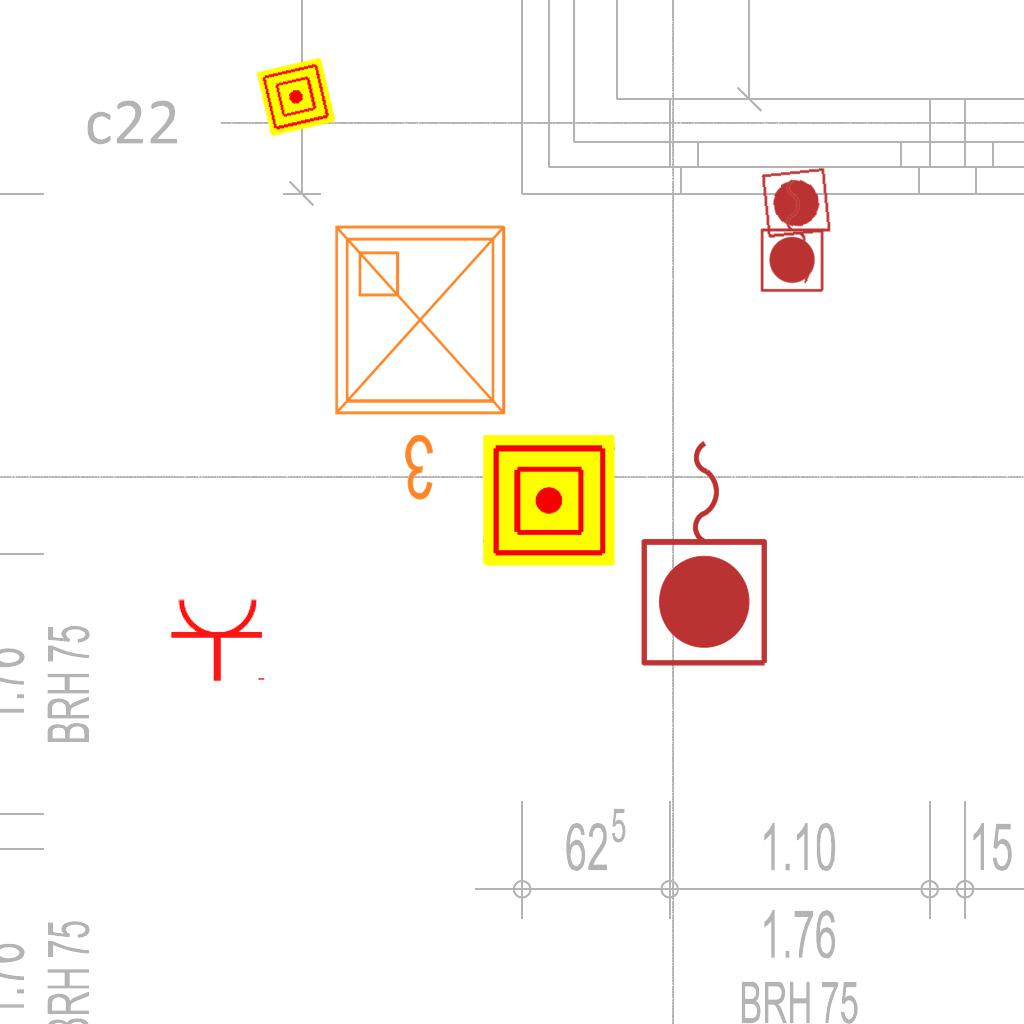Einbaudownlights_LED_Konferenzraeume: (320, 211, 528, 511)
NAM-Nichtautomatischer_Melder: (483, 434, 615, 566), (256, 57, 336, 137)
Schukosteckdose_einfach: (169, 596, 269, 683)
Zugtaster: (634, 430, 778, 674), (755, 163, 841, 293), (757, 174, 829, 296)
